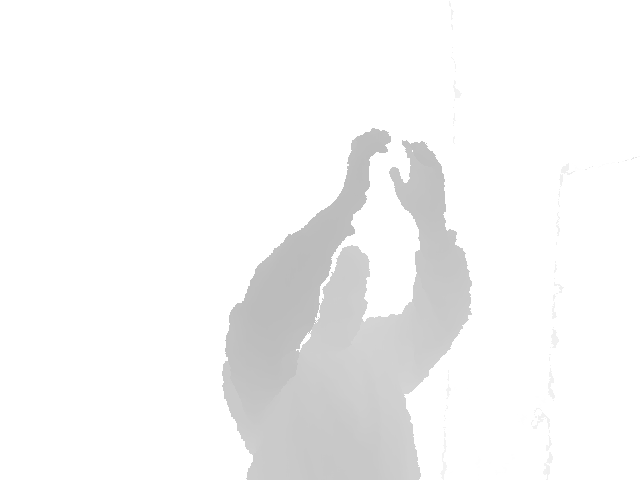hand: (387, 138, 448, 218), (337, 127, 392, 211)
head: (303, 245, 371, 350)
person: (221, 127, 474, 480)
